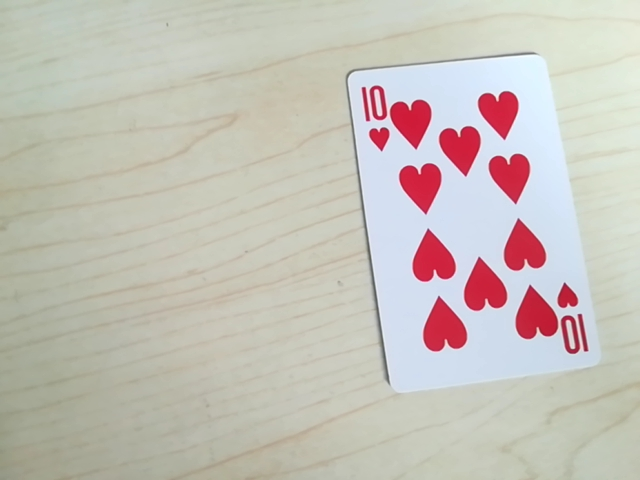hx 10: (356, 82, 397, 148), (548, 295, 585, 360)
